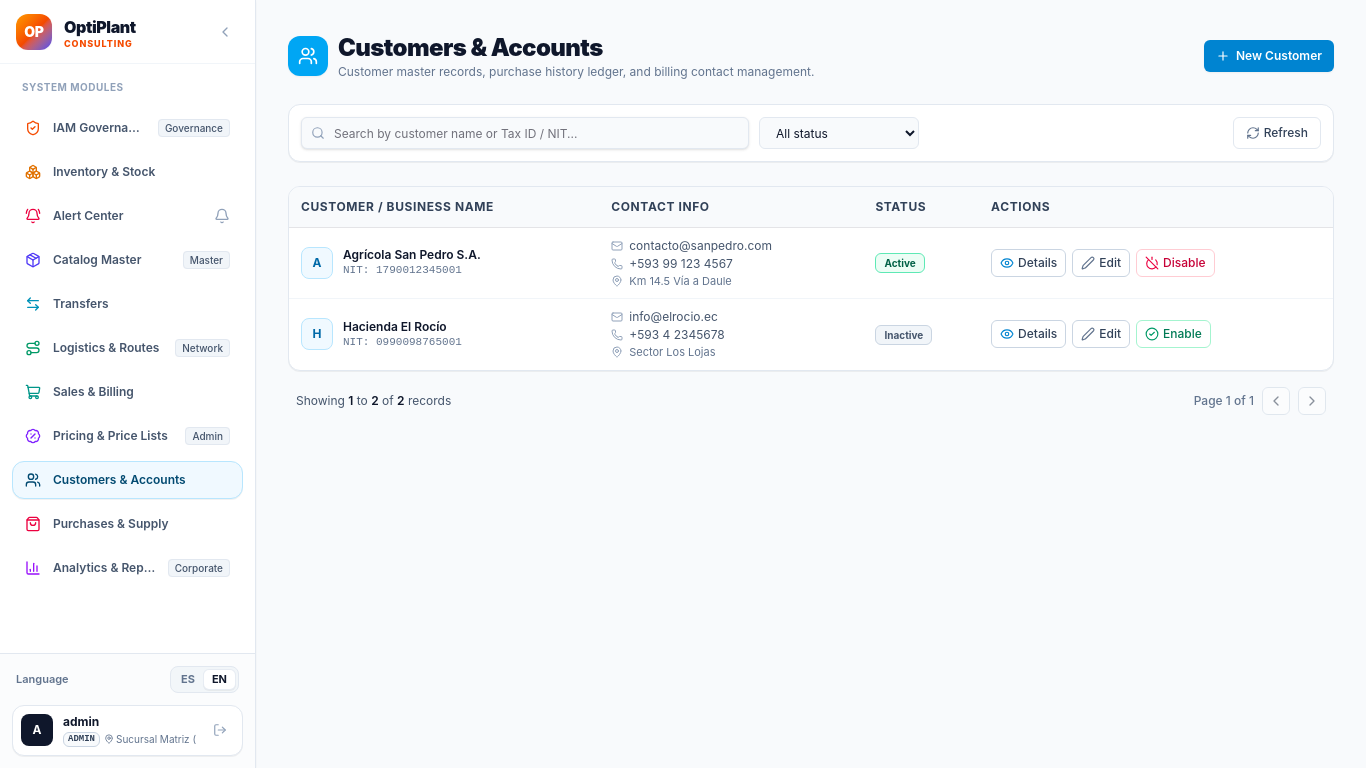
Test: CustomersDashboard Component Tests › opens customer detail dialog and displays purchase history with aggregates
The width and height of the screenshot is (1366, 768).
Click the button titled "Details" in the row of "Agrícola San Pedro S.A.": (1029, 263) 991,249 -> 1066,277
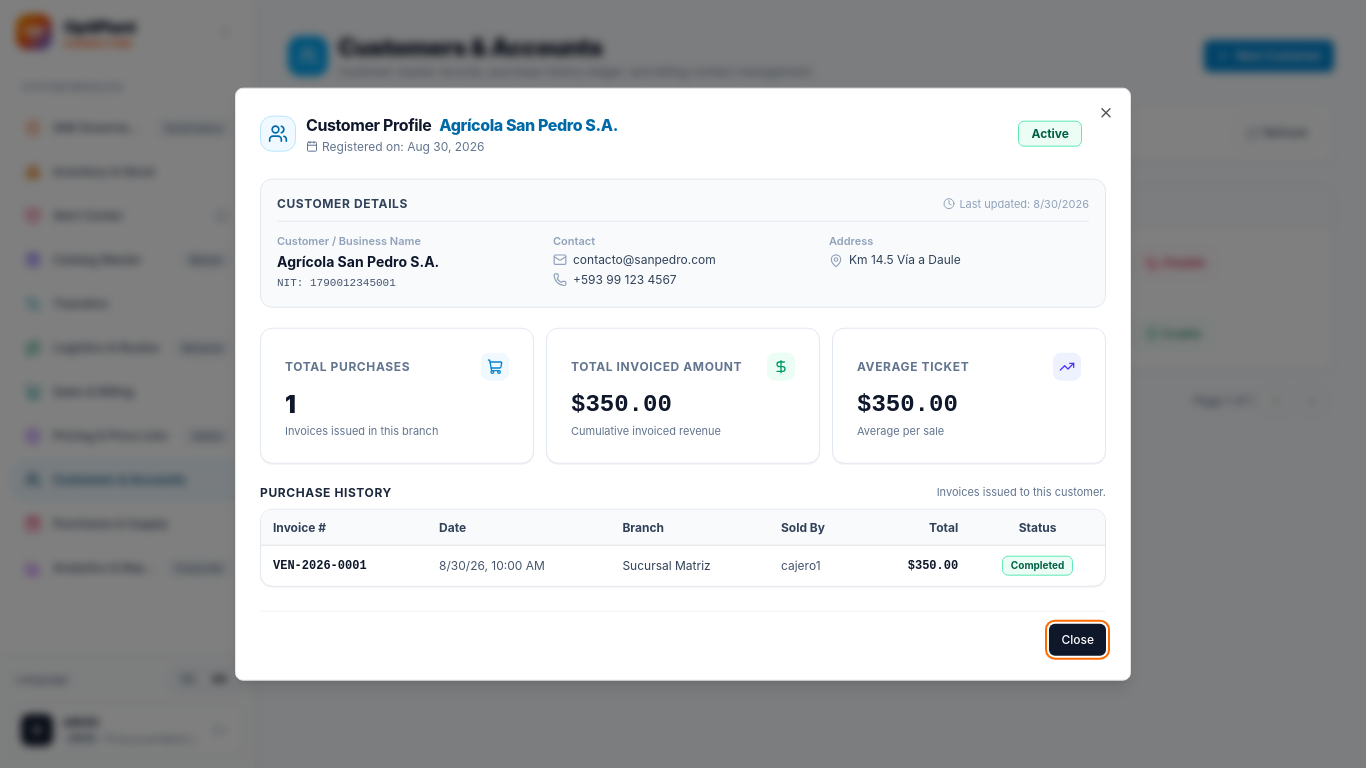
Check: the text "VEN-2026-0001" is shown, box 261,546 -> 427,585
Check: the text "Sucursal Matriz" is shown, box 610,546 -> 769,585
Check: the text "$350.00" below "Total Invoiced Amount" is shown, box 571,390 -> 672,418
